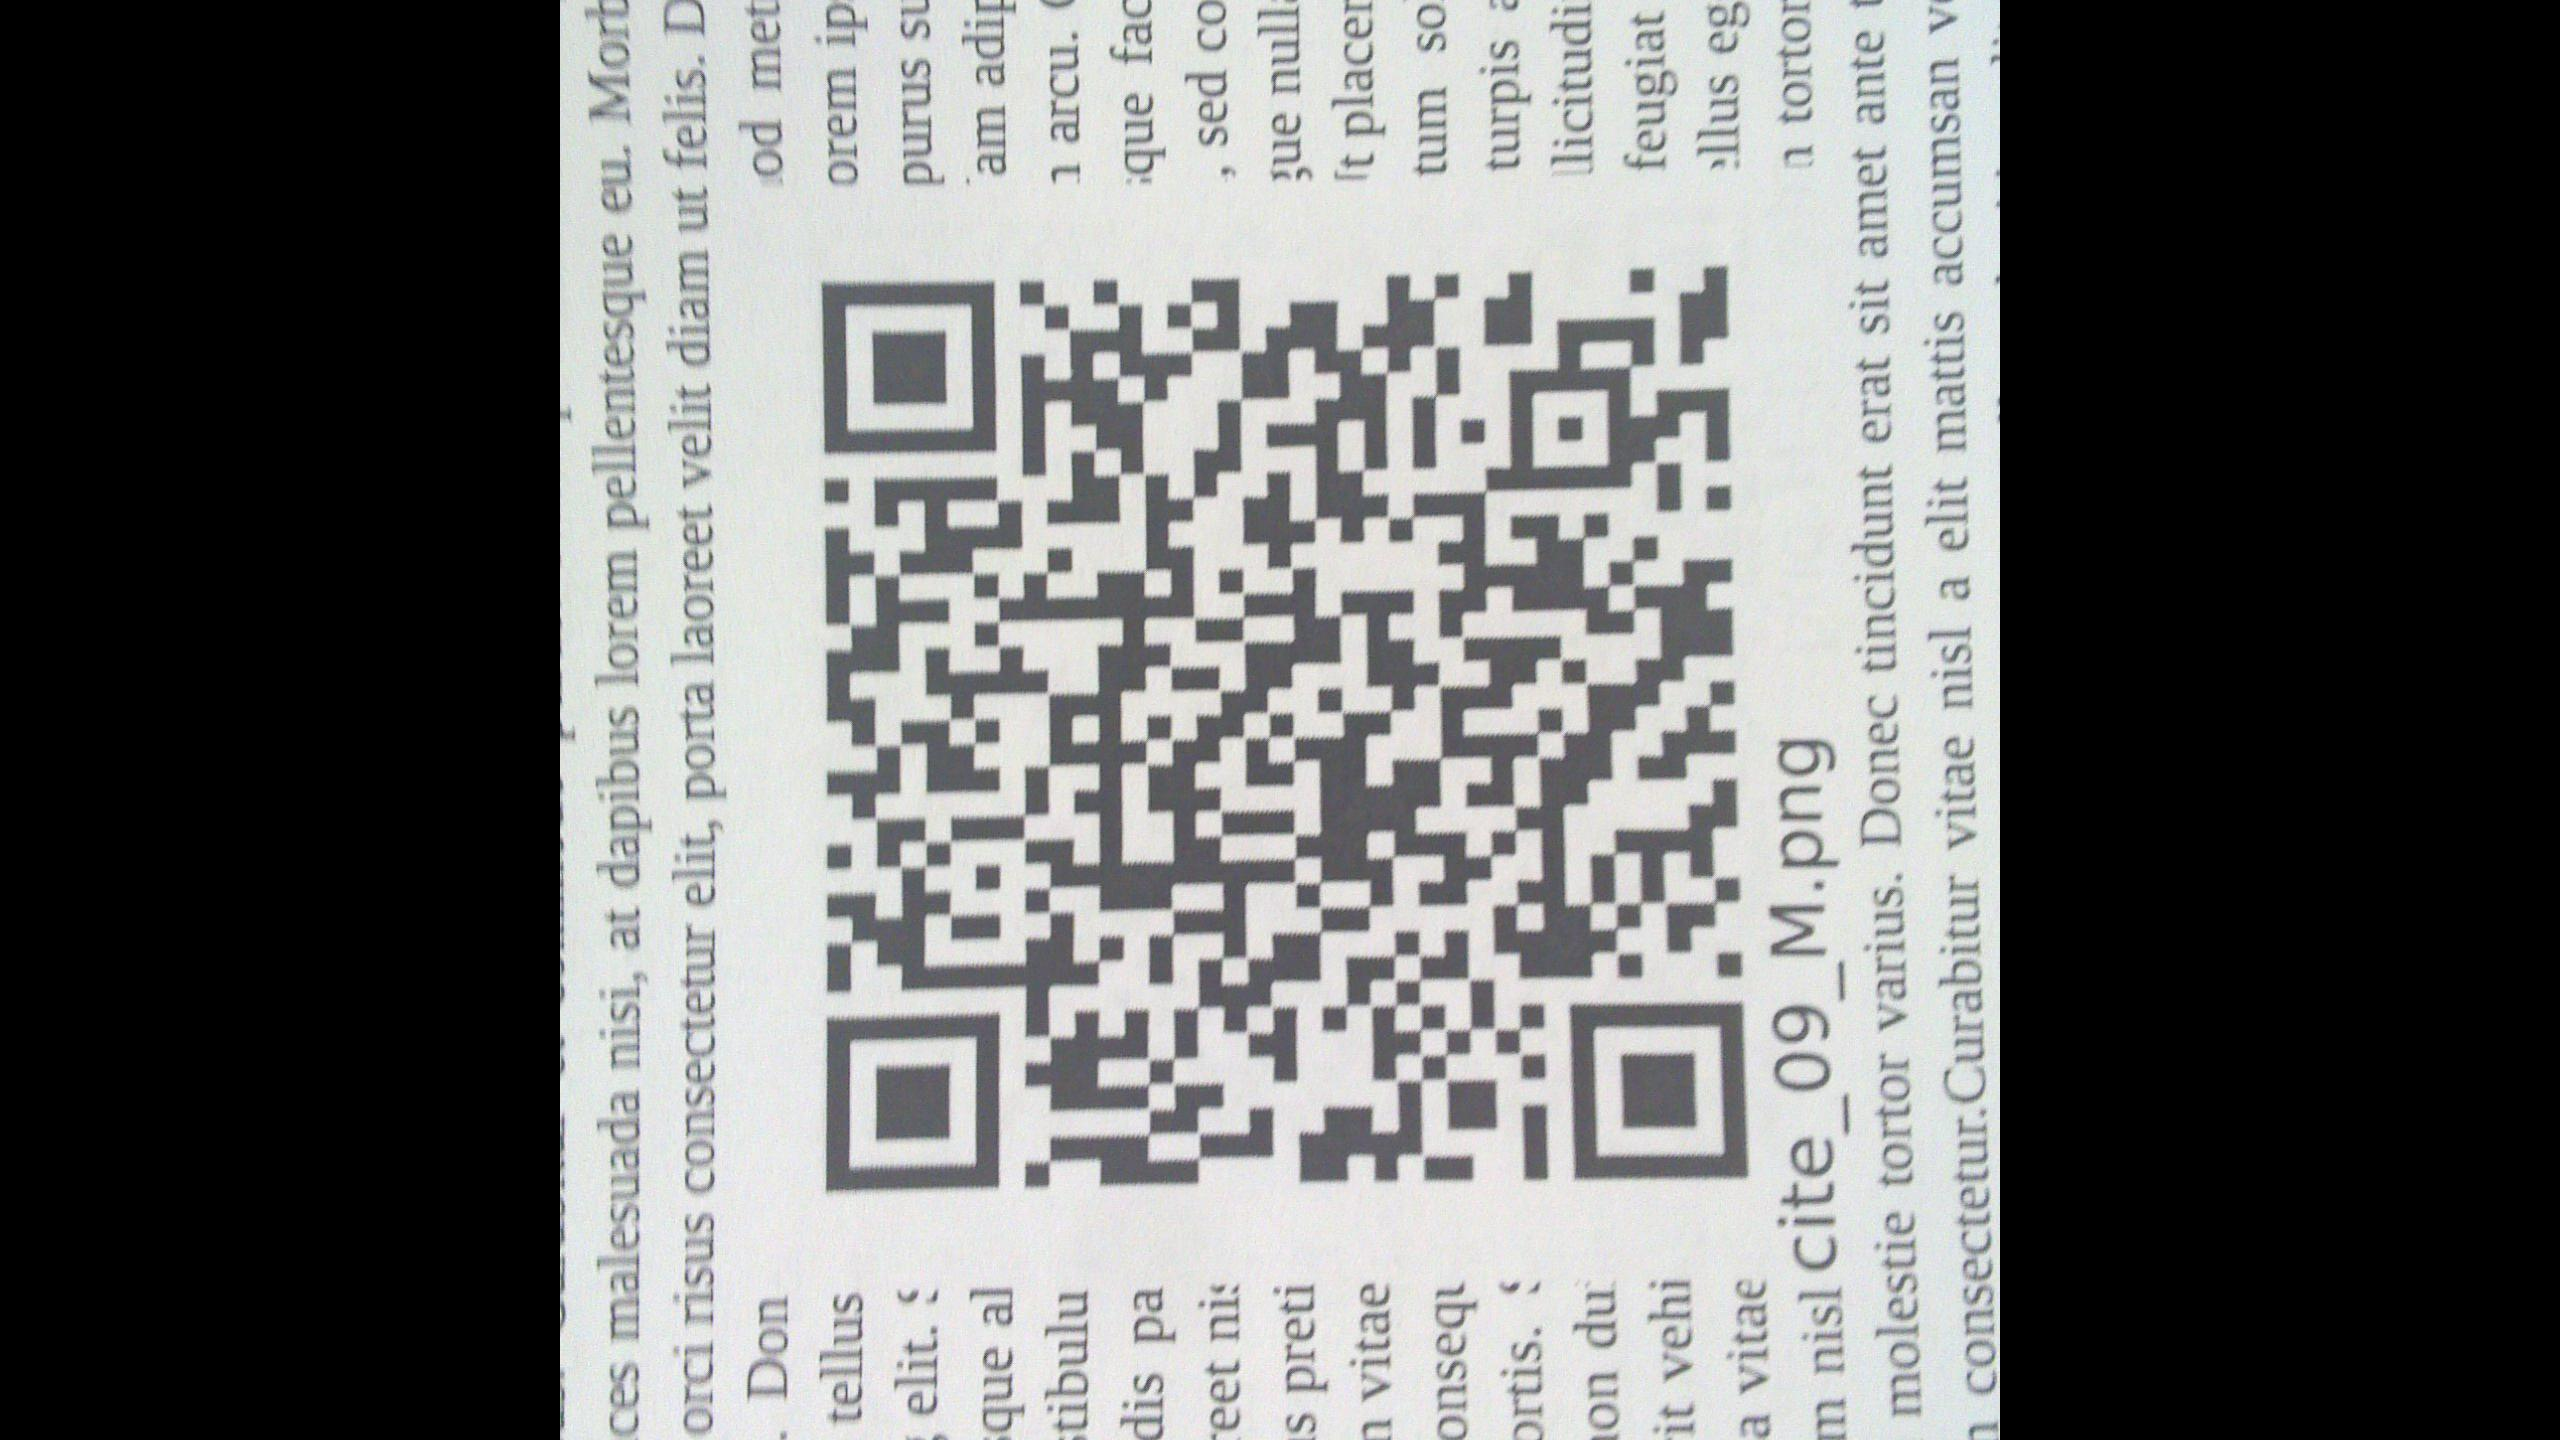QR: (818, 278, 1748, 1196)
